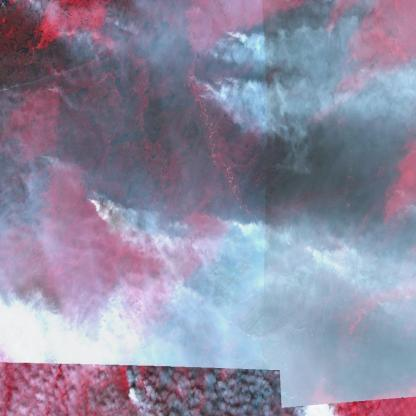fire: (193, 29, 241, 103), (85, 185, 119, 223)
